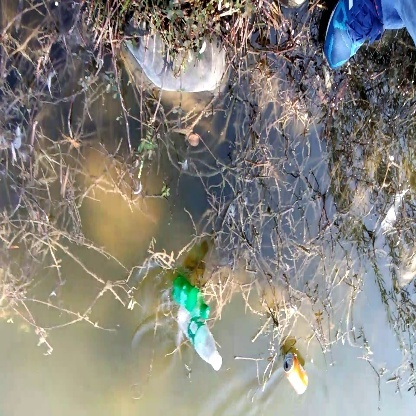bottle: (177, 307, 230, 376), (277, 348, 318, 393)
